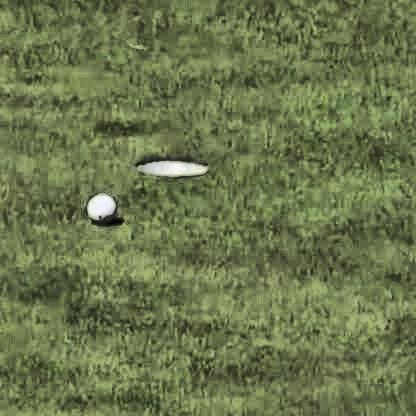golfball: (82, 192, 115, 223)
